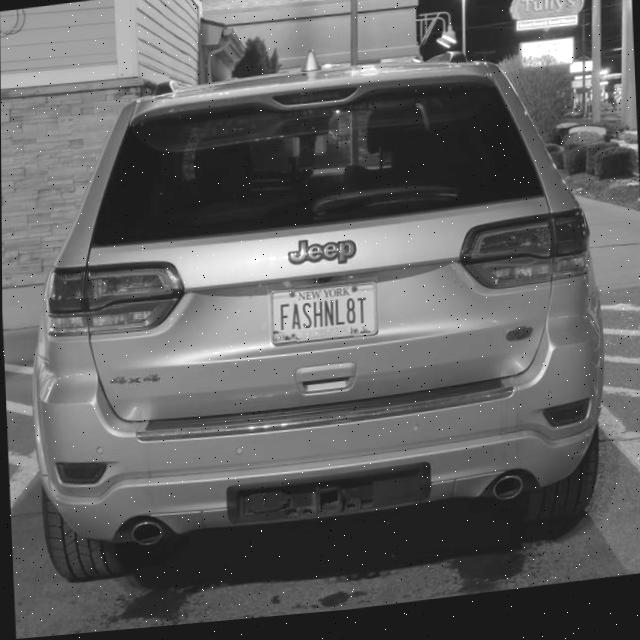LicensePlate: (268, 286, 377, 350)
